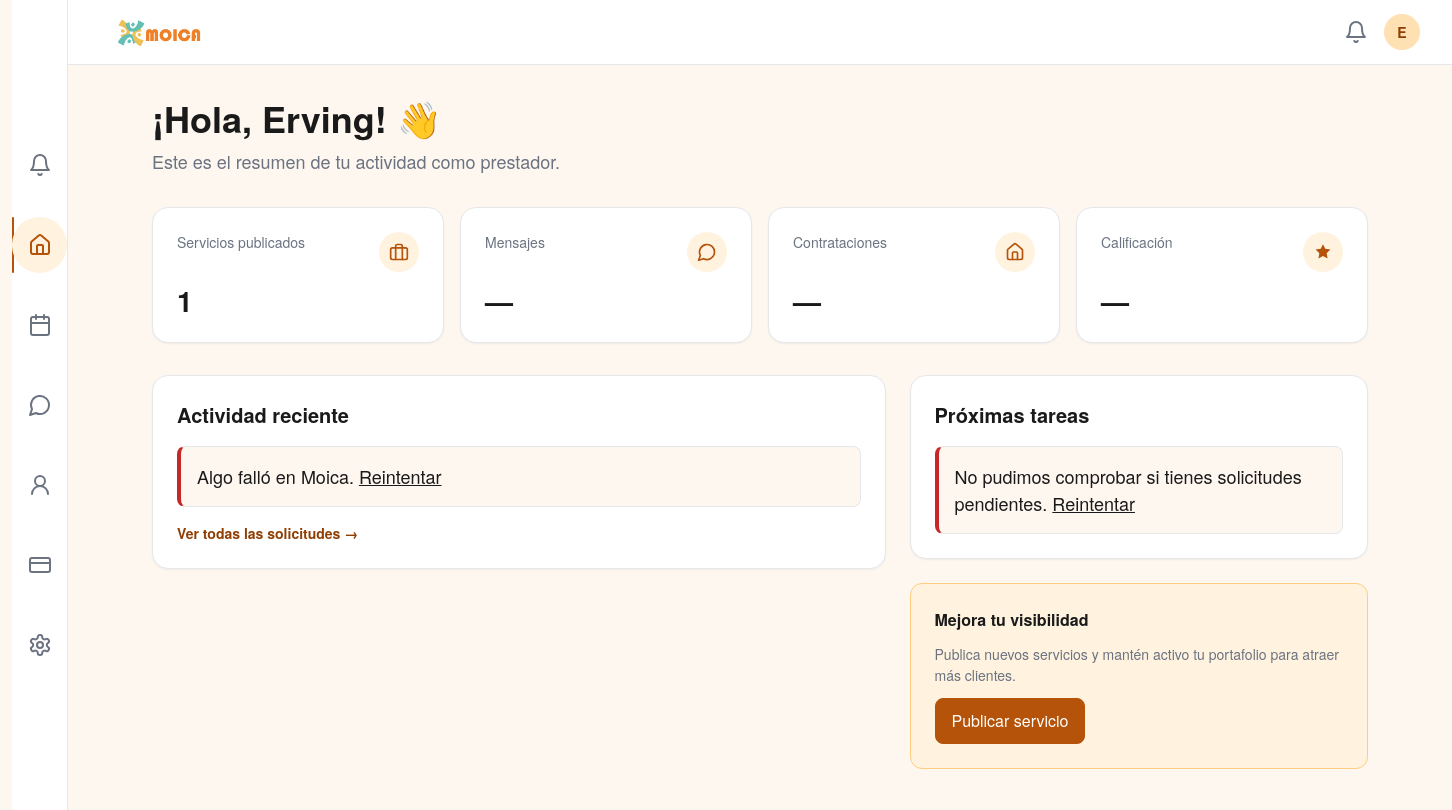
it: Panel de usuario › avisa del fallo de las solicitudes en vez de mostrar cero ni «Vas al día»
Check: the message "Algo falló en Moica. Reintentar" is shown, box [177,446,860,507]
Check: the text "No pudimos comprobar si tienes solicitudes pendientes." is shown, box [954,463,1302,516]
What coordinates should you click on to do the following:
click the button "Reintentar" next to "Algo falló en Moica."
I would click on:
 (400, 476)
Its box is [359,463,442,490].
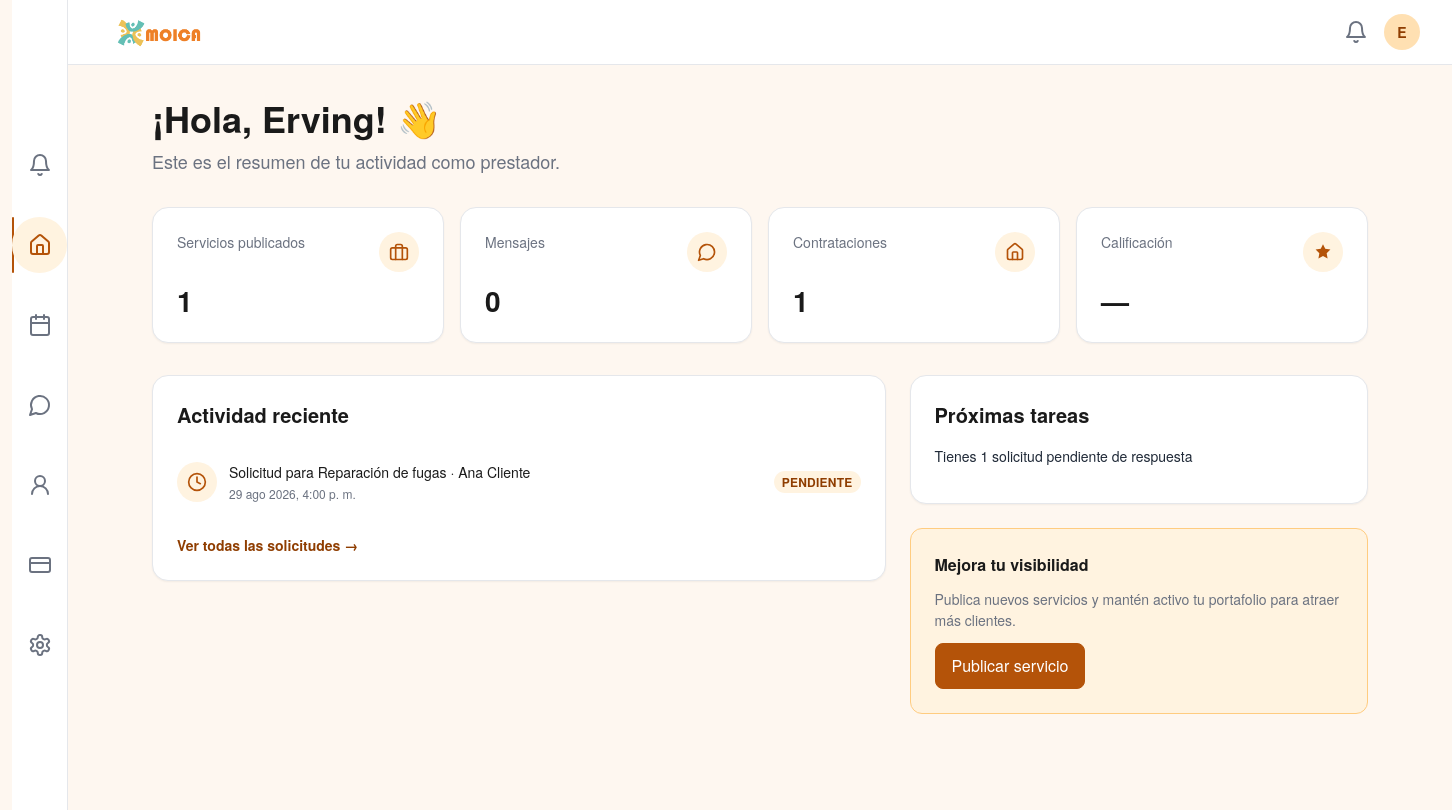
Check: the link "Tienes 1 solicitud pendiente de respuesta" is shown, box [934,446,1192,466]
Check: the link "Contrataciones 1" is shown, box [768,207,1060,343]
Check: the message "Algo falló en Moica. Reintentar" is gone
